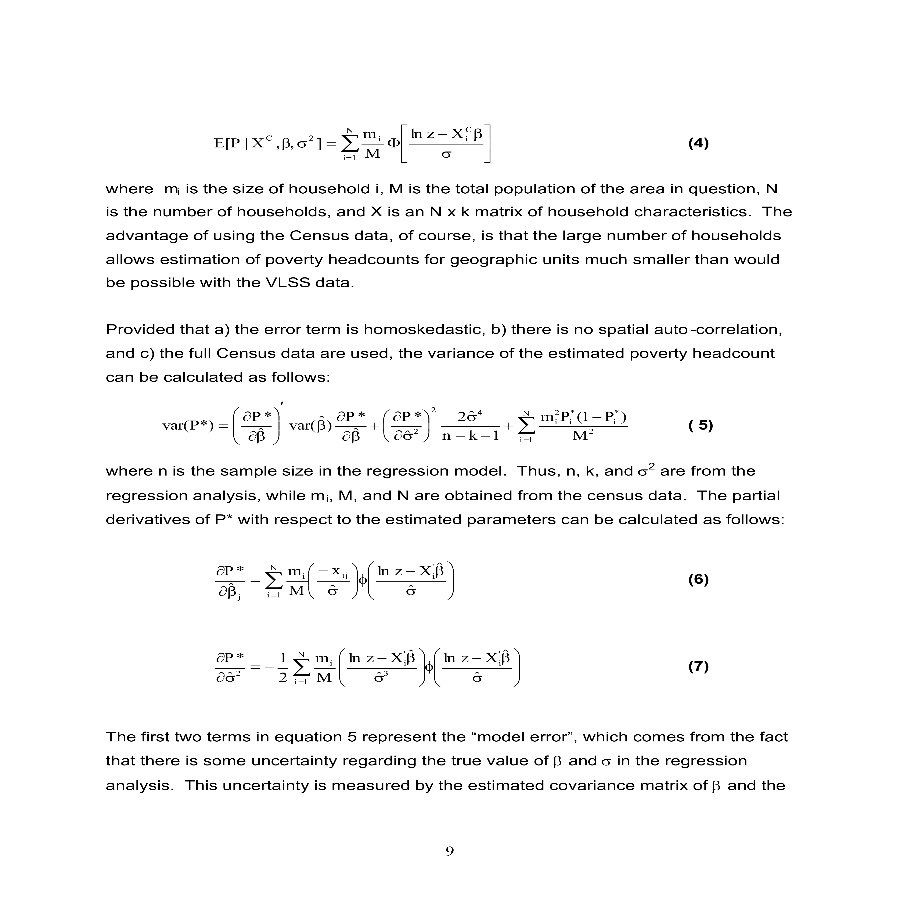eq: (158, 399, 635, 448), (209, 644, 527, 695), (209, 121, 493, 165), (210, 556, 459, 604)
